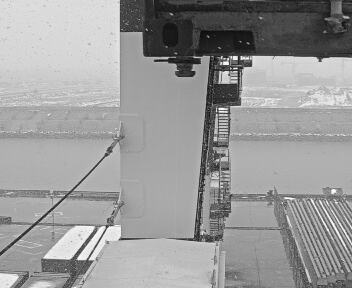twist_lock_1: (161, 51, 208, 85)
